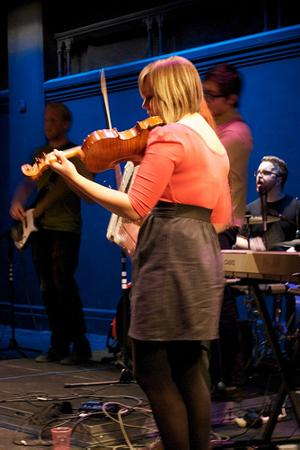person: (49, 55, 234, 449)
